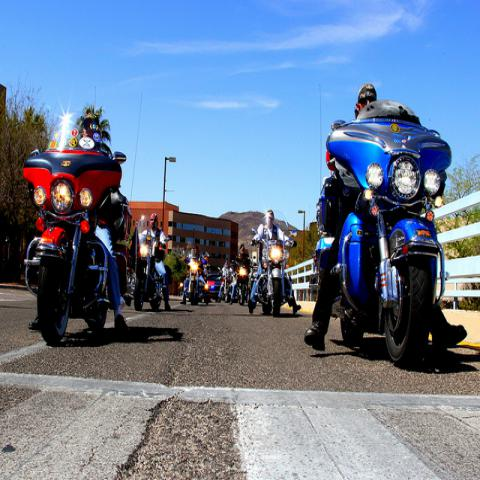car: (203, 272, 223, 305)
motorcycle: (324, 99, 454, 372), (22, 110, 136, 346), (253, 228, 305, 317), (129, 213, 167, 311), (185, 252, 211, 306), (230, 259, 256, 306), (222, 270, 230, 303)
